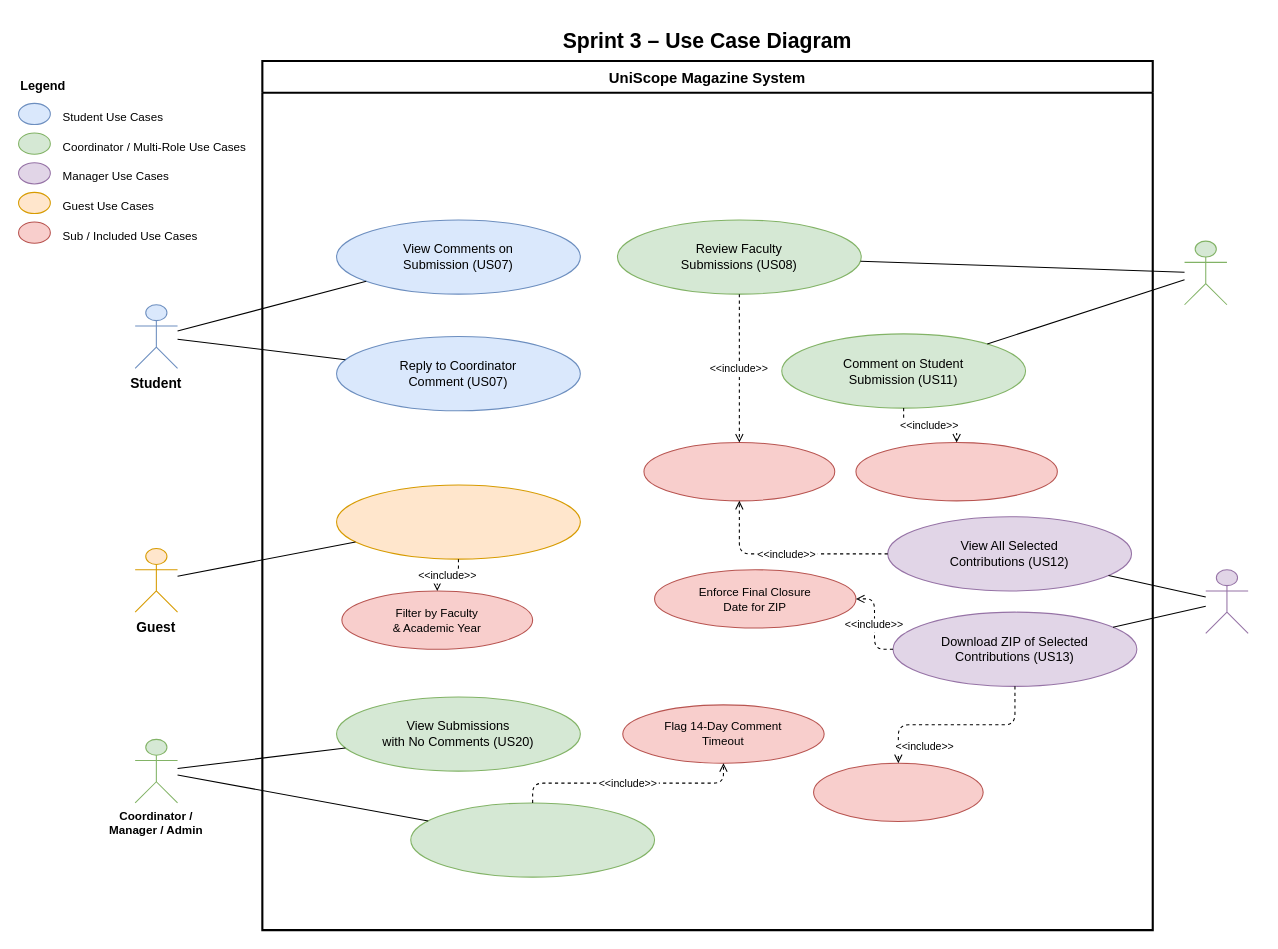
The diagram is 1278 pixels wide and 949 high, and some of its shapes have lost their labels. Each missing label, with the centre of its shape:
"Exception Report: No Comments (14 Days) (US21)" goes at (x=532, y=839).
"Log Download Action" goes at (x=897, y=792).
"Marketing Coordinator" goes at (x=1205, y=272).
"Marketing Manager" goes at (x=1226, y=601).
"Restrict Access by Role" goes at (x=739, y=471).
"Send Notification to Student" goes at (x=956, y=471).
"View Published Content Without Login (US17)" goes at (x=457, y=521).
